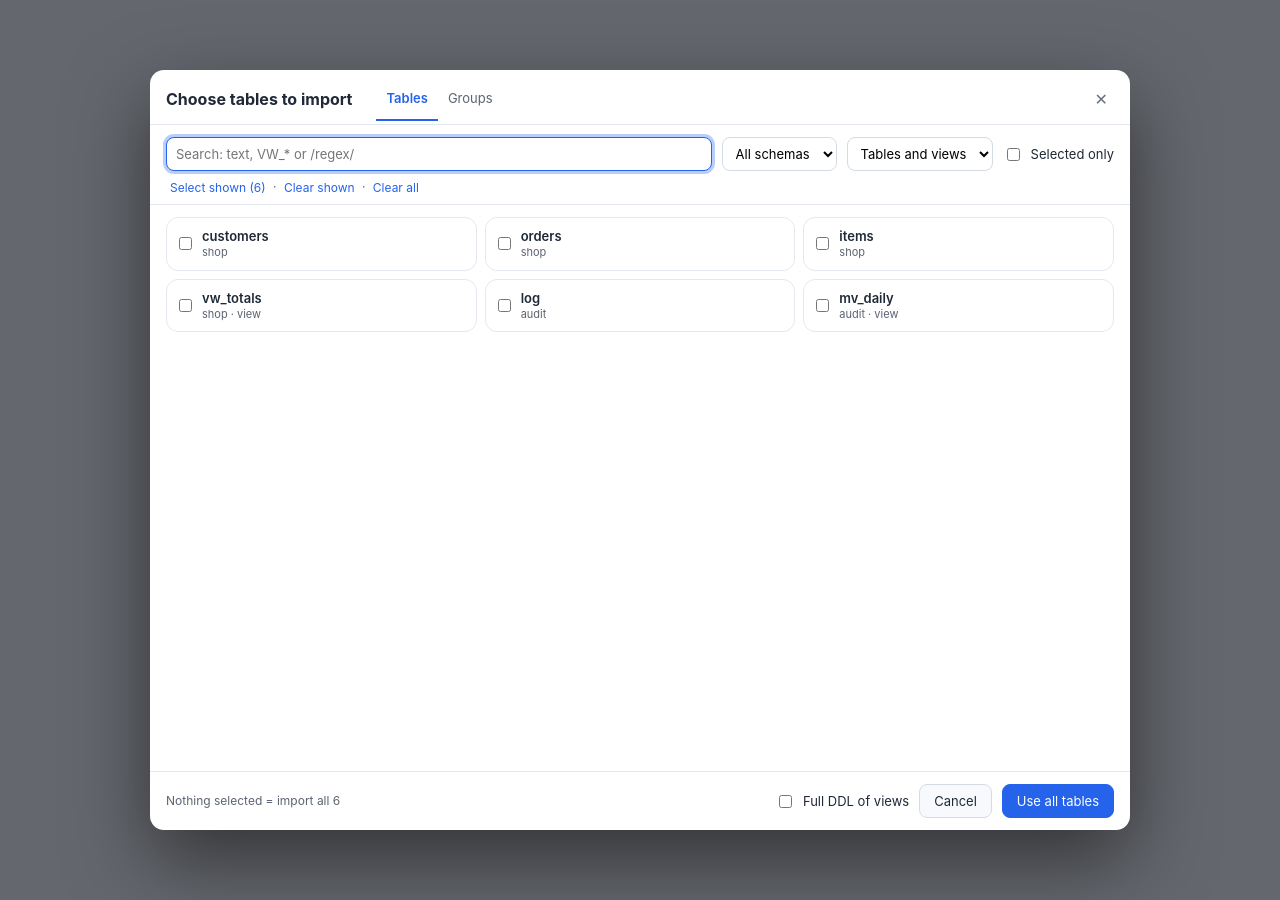
TablePicker import selection › kind filter: views only
Select "Views only" in the 2nd dropdown showing "Tables and views": (920, 154) 847,137 -> 993,171
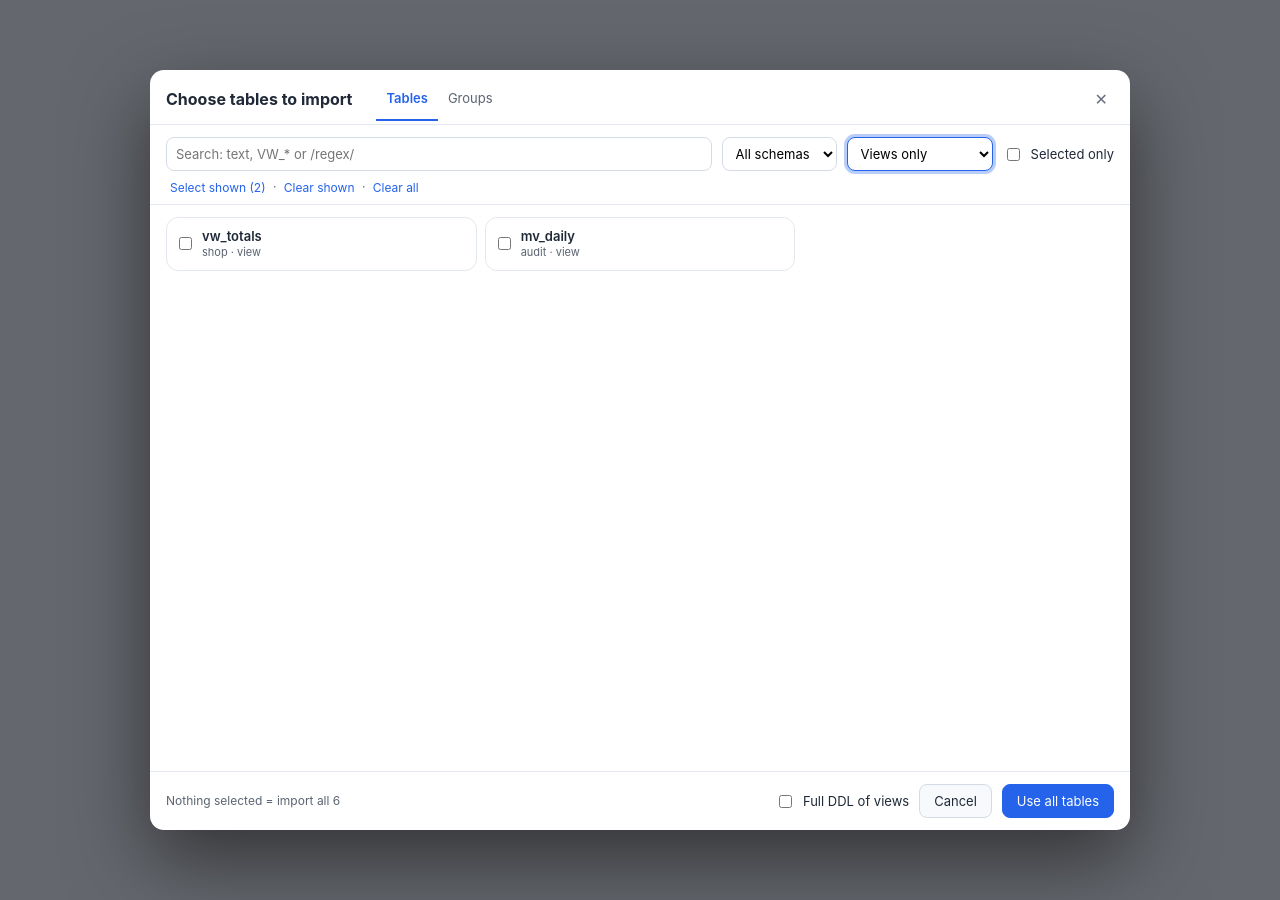
expect the number of labels with class "tp-card" is 2: met, box 166,217 -> 477,271; 485,217 -> 795,271
